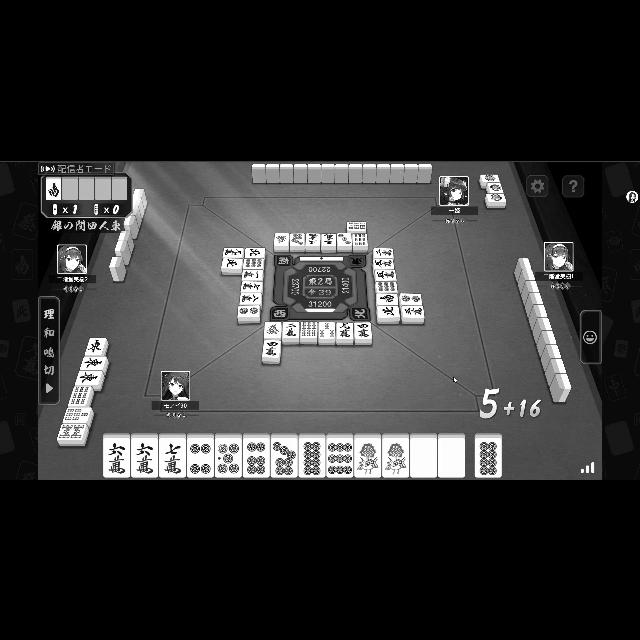1m: (243, 270, 259, 278)
1p: (490, 192, 504, 200), (490, 183, 502, 191), (484, 174, 496, 180)
1s: (384, 441, 408, 475), (356, 441, 379, 475)
2m: (285, 322, 297, 336), (376, 248, 392, 256)
2p: (402, 294, 421, 302), (240, 306, 258, 314)
3m: (404, 306, 424, 314), (324, 233, 334, 245), (308, 232, 318, 244)
3p: (338, 232, 352, 244)
3s: (320, 321, 334, 337)
4m: (265, 340, 279, 356), (356, 323, 369, 337)
4p: (188, 442, 212, 474)
5m: (375, 258, 393, 268), (376, 270, 396, 278)
5p: (216, 442, 240, 474)
6m: (106, 442, 128, 474), (134, 442, 154, 474)
6p: (246, 442, 266, 474)
6s: (302, 320, 316, 336)
7m: (162, 442, 184, 474), (242, 282, 262, 290)
7p: (272, 441, 296, 475), (290, 232, 304, 244)
7s: (64, 408, 90, 420)
8m: (241, 294, 259, 302)
8p: (302, 441, 322, 475), (478, 441, 498, 475)
8s: (59, 424, 85, 436)
9m: (338, 322, 352, 336), (224, 248, 242, 255)
9p: (328, 441, 352, 475), (378, 281, 396, 291), (245, 258, 262, 266)
9s: (70, 386, 90, 402), (354, 232, 366, 244), (348, 221, 366, 229)
haku: (412, 441, 436, 475), (440, 441, 464, 475)
hatsu: (266, 323, 280, 335), (276, 234, 288, 242)
nan: (48, 181, 61, 197), (379, 294, 396, 302)
pe: (381, 305, 397, 315), (248, 248, 262, 256), (225, 258, 239, 266)
tou: (79, 370, 99, 382), (86, 338, 102, 352), (84, 356, 102, 368)
